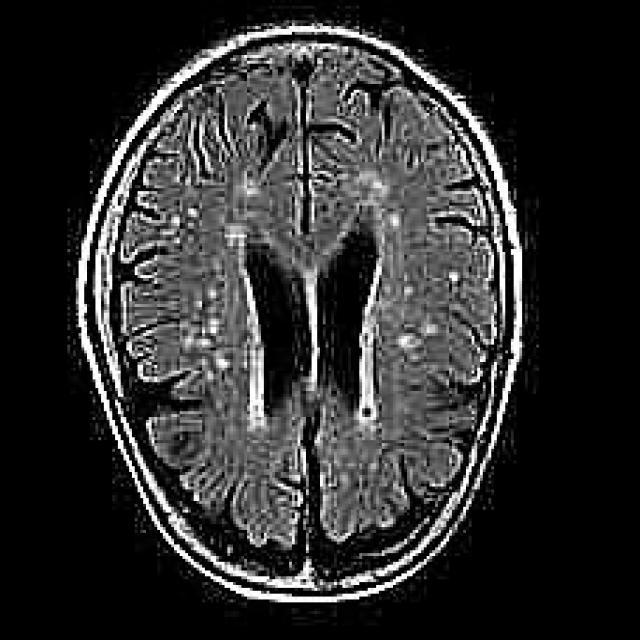notumor: (79, 29, 522, 599)
